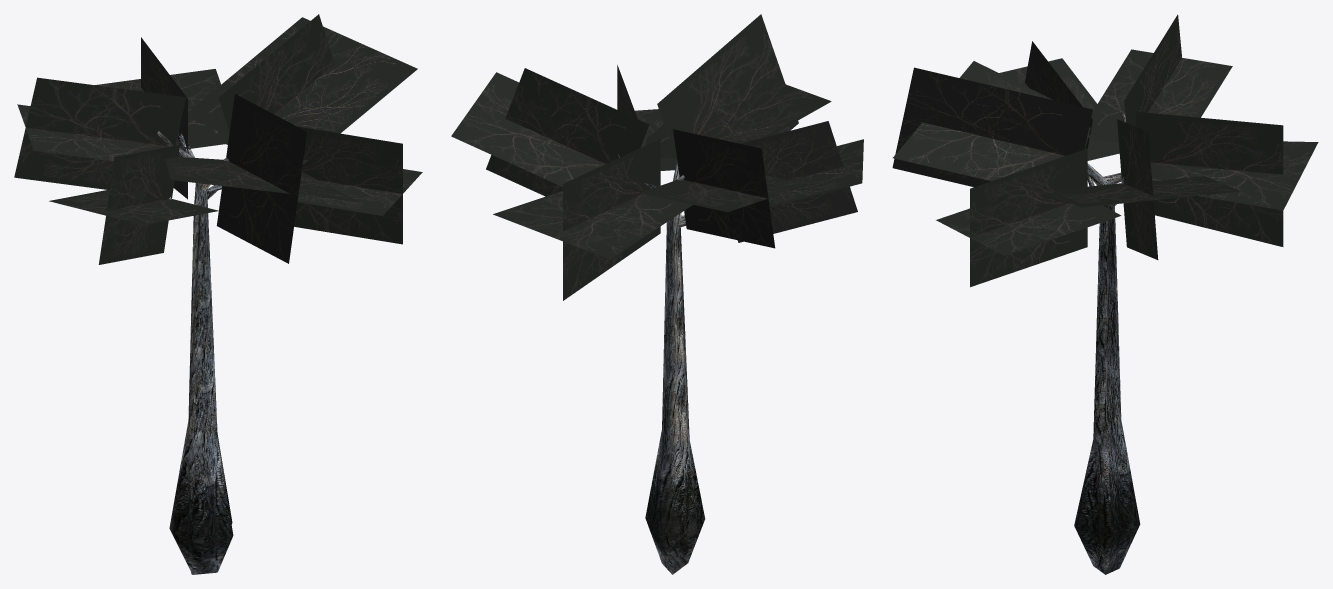
File: decd_scorched_massassi_l1.fbx
3 renders of one model, left to right at view 1: azimuth 30°, elevation 25°; view 2: azimuth 150°, elevation 25°; view 3: azimuth 270°, elevation 25°, orthographic. The views are drawn at different scales.
Parts seen in each view (by area): view 1: mesh_node; view 2: mesh_node; view 3: mesh_node.
Part boxes in pixels (left/top/right/bottom): mesh_node: left=14, top=14, right=422, bottom=574; mesh_node: left=451, top=14, right=863, bottom=574; mesh_node: left=892, top=14, right=1318, bottom=574.
Bounding box in the file's own units: 70.93 × 92.29 × 70.42.
